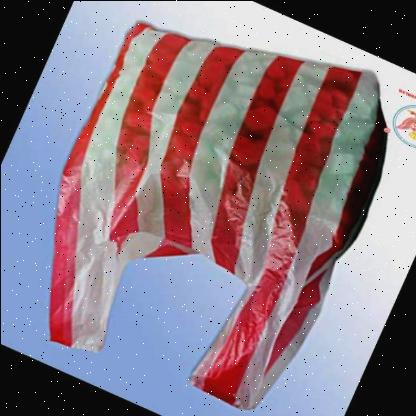Others: (48, 21, 388, 410)
